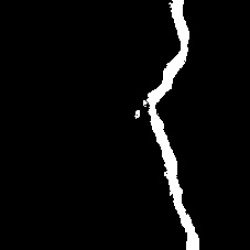crack: (131, 6, 203, 247)
